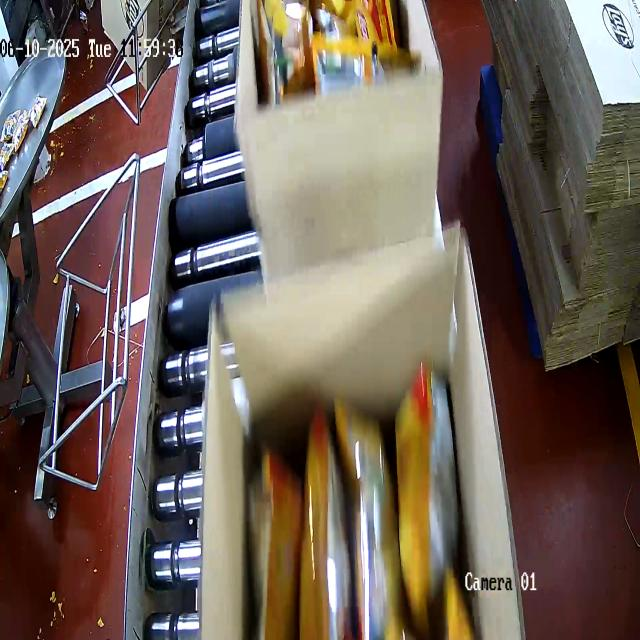FRENCH_CHEESE: (242, 381, 473, 640), (254, 0, 411, 85)
